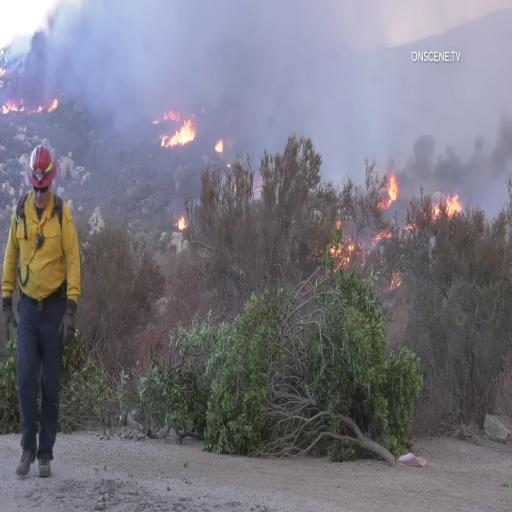fire: (160, 118, 199, 150), (438, 196, 469, 220)
smoke: (74, 4, 305, 95), (397, 116, 512, 188)
